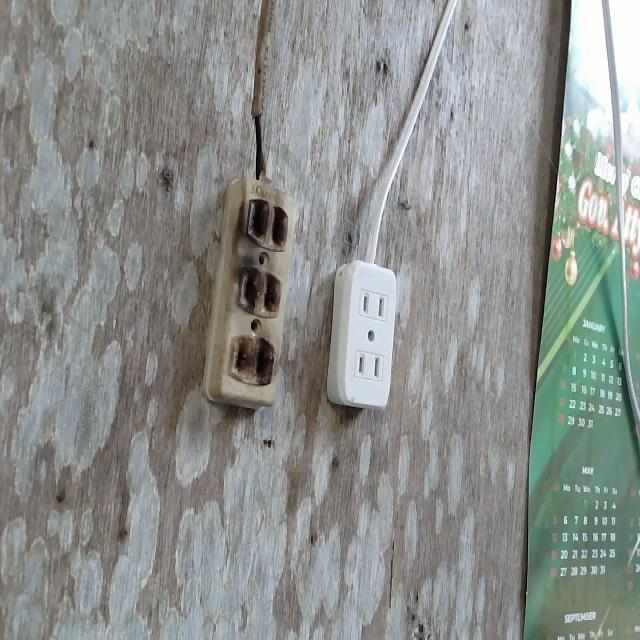-: (226, 196, 285, 396)
